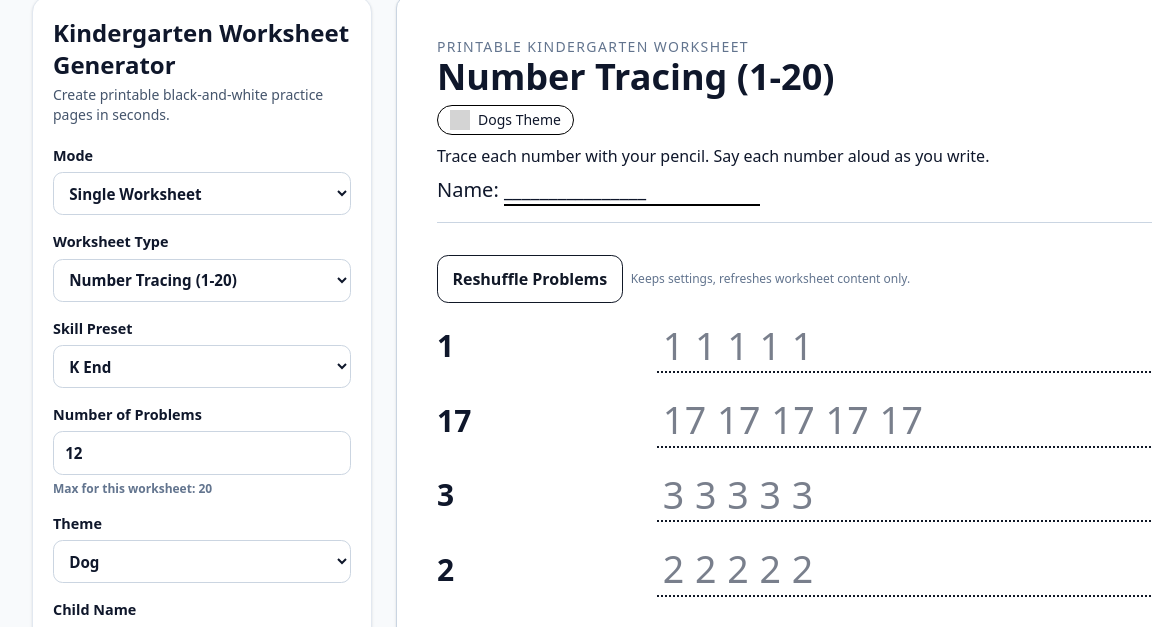
Test: app regression coverage › reset to recommended defaults restores suggested problem count
Step 1. Replace the text in the number field labelled "Number of Problems Max for this worksheet: 20" with "4" → [202, 453], box x1=53 y1=431 x2=351 y2=475
(page scrolled)
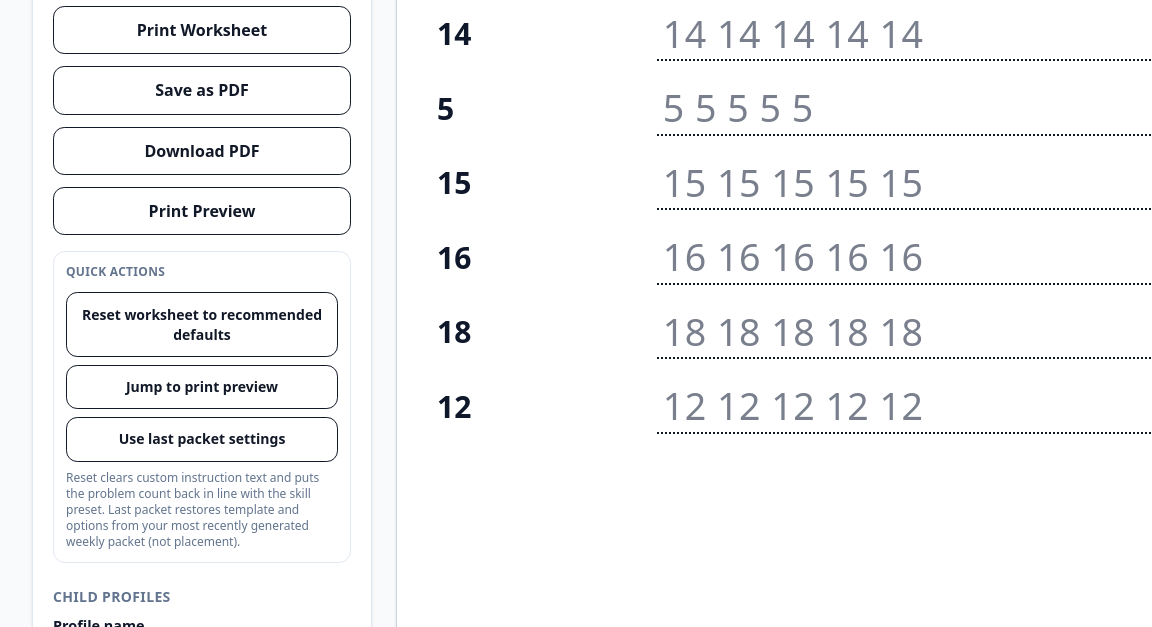
Step 2. Click the button "Reset worksheet to recommended defaults" → [202, 325], box x1=66 y1=292 x2=338 y2=357
(page scrolled)
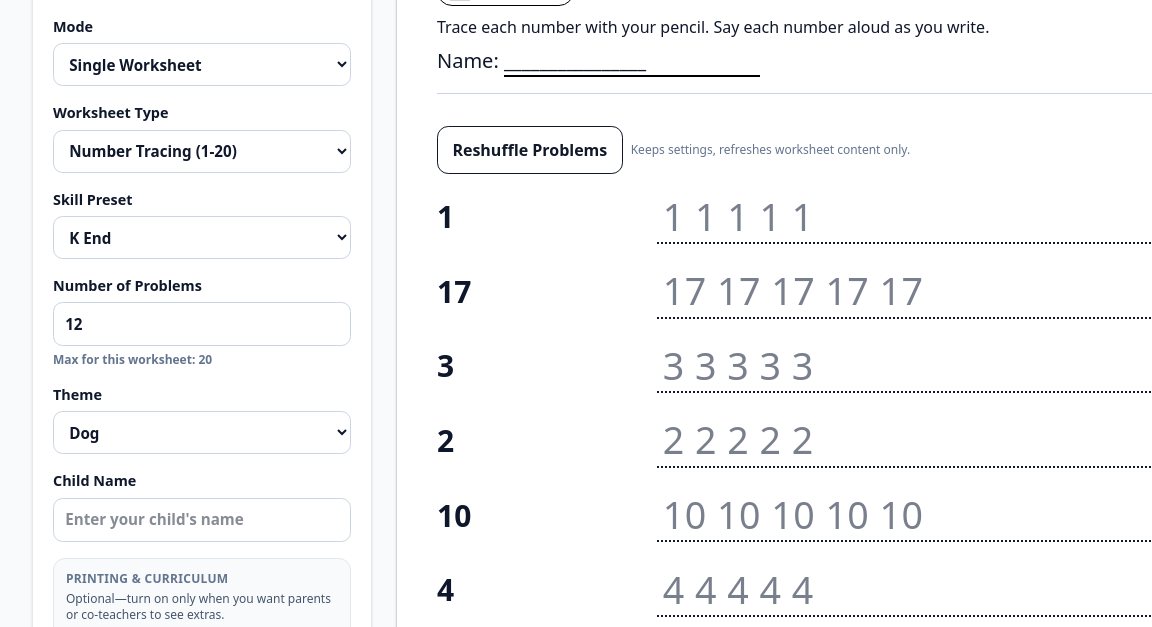
expect the number field labelled "Number of Problems Max for this worksheet: 20" holds "12": met, box x1=53 y1=302 x2=351 y2=346
